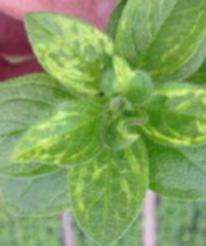Tomato leaf mosaic virus: (70, 112, 153, 246), (10, 93, 115, 166), (112, 0, 206, 77), (138, 83, 206, 148)
